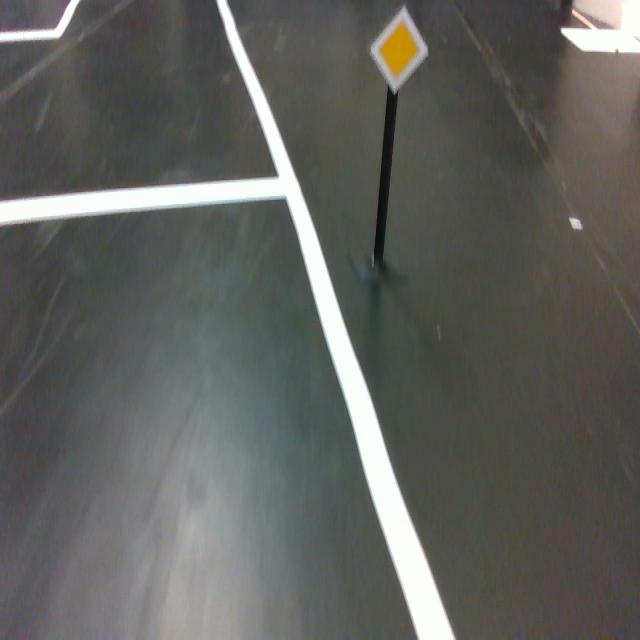priority-sign: (368, 4, 429, 95)
